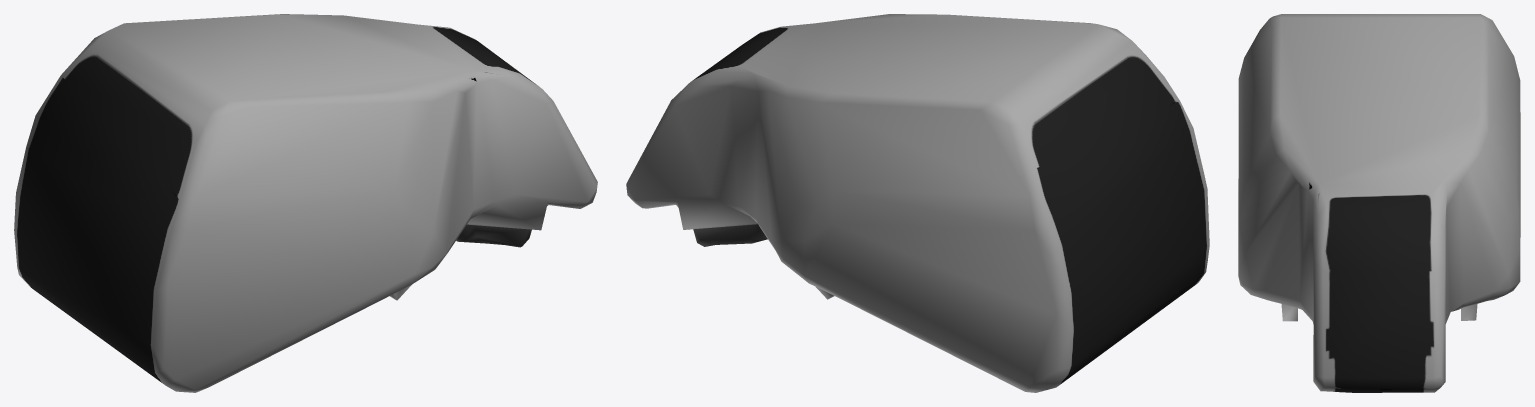
The model's file is l_gripper_l_finger_link.OBJ.
The picture shows the model from 3 angles, left to right: view 1: azimuth 30°, elevation 25°; view 2: azimuth 150°, elevation 25°; view 3: azimuth 270°, elevation 25°; orthographic projection. The views are drawn at different scales.
Visible parts, largest first — view 1: /ambf/env/pr2/l_gripper_l_finger_link_/ambf/env/pr2/l_gripper_l_; view 2: /ambf/env/pr2/l_gripper_l_finger_link_/ambf/env/pr2/l_gripper_l_; view 3: /ambf/env/pr2/l_gripper_l_finger_link_/ambf/env/pr2/l_gripper_l_.
Boxes of the visible parts, bbox=[...] form: /ambf/env/pr2/l_gripper_l_finger_link_/ambf/env/pr2/l_gripper_l_: bbox=[14, 14, 597, 392]; /ambf/env/pr2/l_gripper_l_finger_link_/ambf/env/pr2/l_gripper_l_: bbox=[626, 14, 1209, 392]; /ambf/env/pr2/l_gripper_l_finger_link_/ambf/env/pr2/l_gripper_l_: bbox=[1238, 14, 1520, 392].
Bounding box in the file's own units: 0.1045 × 0.0549 × 0.0562.
